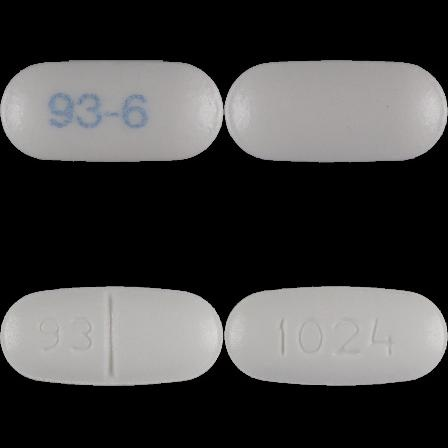16590-164: (0, 0, 224, 224)
